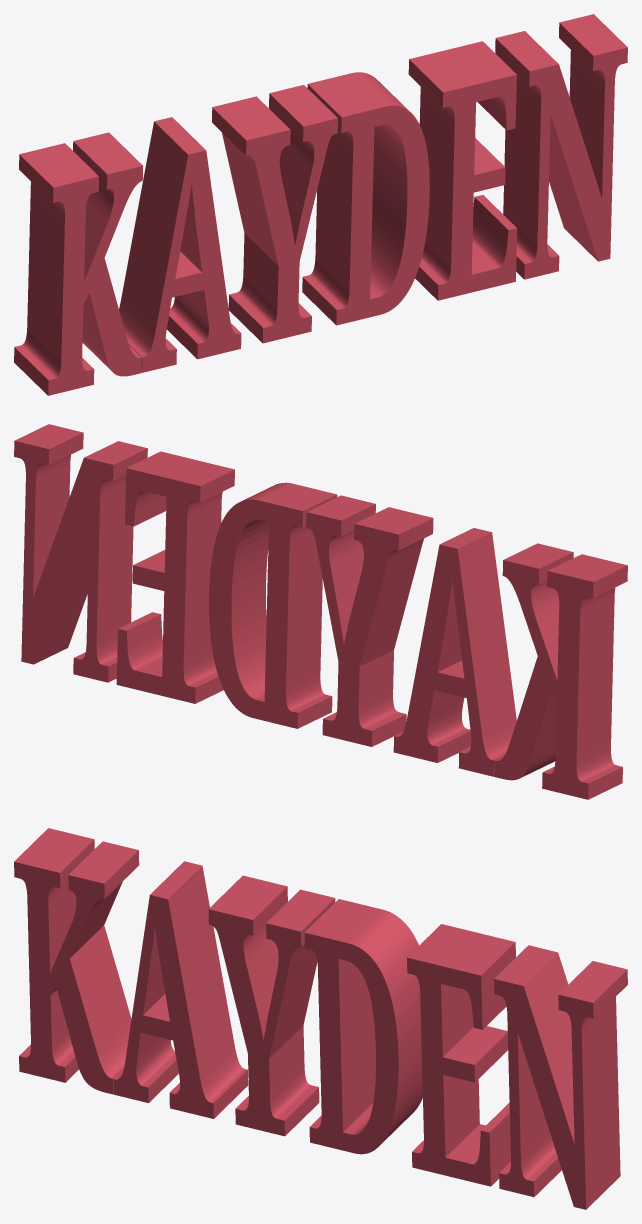
3 views of the same model, one above another, from view 1: azimuth 30°, elevation 25°; view 2: azimuth 150°, elevation 25°; view 3: azimuth 330°, elevation 25° (orthographic).
Parts seen in each view (by area): view 1: Mesh_Mesh_head_geo.001_lambert2SG.001; view 2: Mesh_Mesh_head_geo.001_lambert2SG.001; view 3: Mesh_Mesh_head_geo.001_lambert2SG.001.
Part boxes in pixels (box(x1,y1,x2,y2)): Mesh_Mesh_head_geo.001_lambert2SG.001: box(14, 14, 627, 395); Mesh_Mesh_head_geo.001_lambert2SG.001: box(14, 424, 627, 799); Mesh_Mesh_head_geo.001_lambert2SG.001: box(14, 828, 627, 1209).
Bounding box in the file's own units: 0.056 × 0.0205 × 0.00667.
